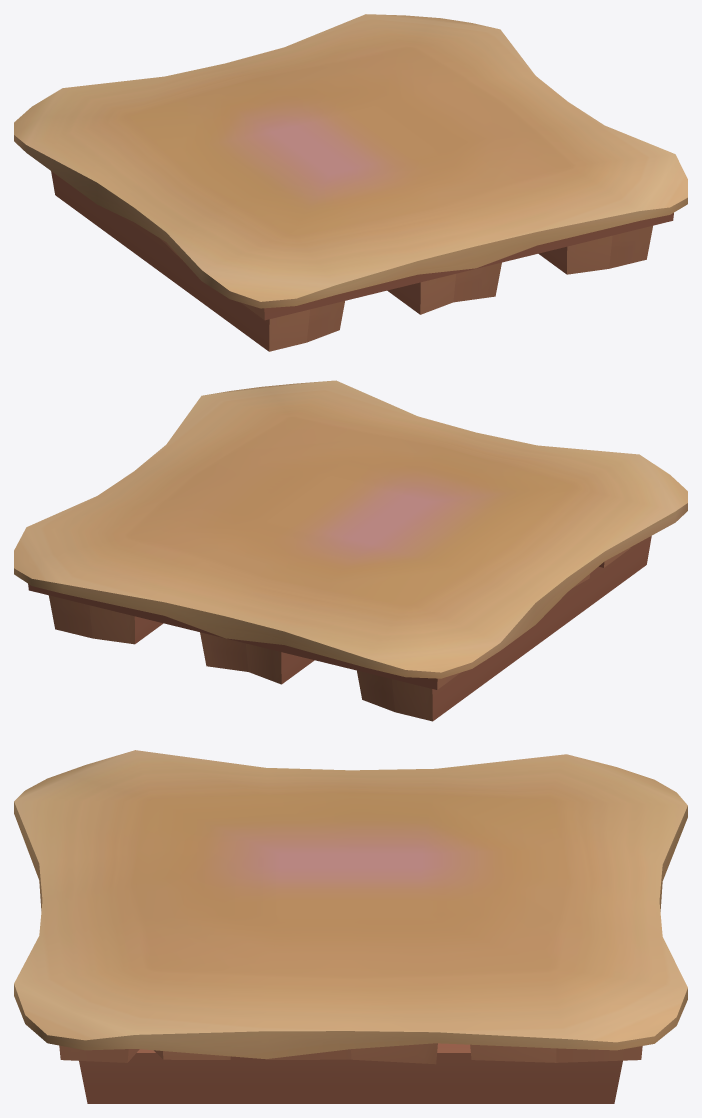
The model's file is Pallet_Wood_Covered_A.glb.
3 renders of one model, top to bottom at view 1: azimuth 30°, elevation 25°; view 2: azimuth 150°, elevation 25°; view 3: azimuth 270°, elevation 25°, orthographic. The views are drawn at different scales.
Parts seen in each view (by area): view 1: Pallet_Wood_Covered_A; view 2: Pallet_Wood_Covered_A; view 3: Pallet_Wood_Covered_A.
Part boxes in pixels (left/top/right/bottom): Pallet_Wood_Covered_A: left=14, top=14, right=687, bottom=351; Pallet_Wood_Covered_A: left=14, top=380, right=687, bottom=721; Pallet_Wood_Covered_A: left=14, top=750, right=687, bottom=1103.
Bounding box in the file's own units: 1.72 × 0.2999 × 1.72.
Materials: 1 (1 with a texture image).
